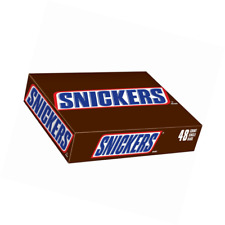snickers: (25, 87, 74, 148), (25, 87, 69, 148), (58, 87, 165, 106), (58, 88, 164, 106), (58, 88, 162, 106), (94, 131, 158, 154)
